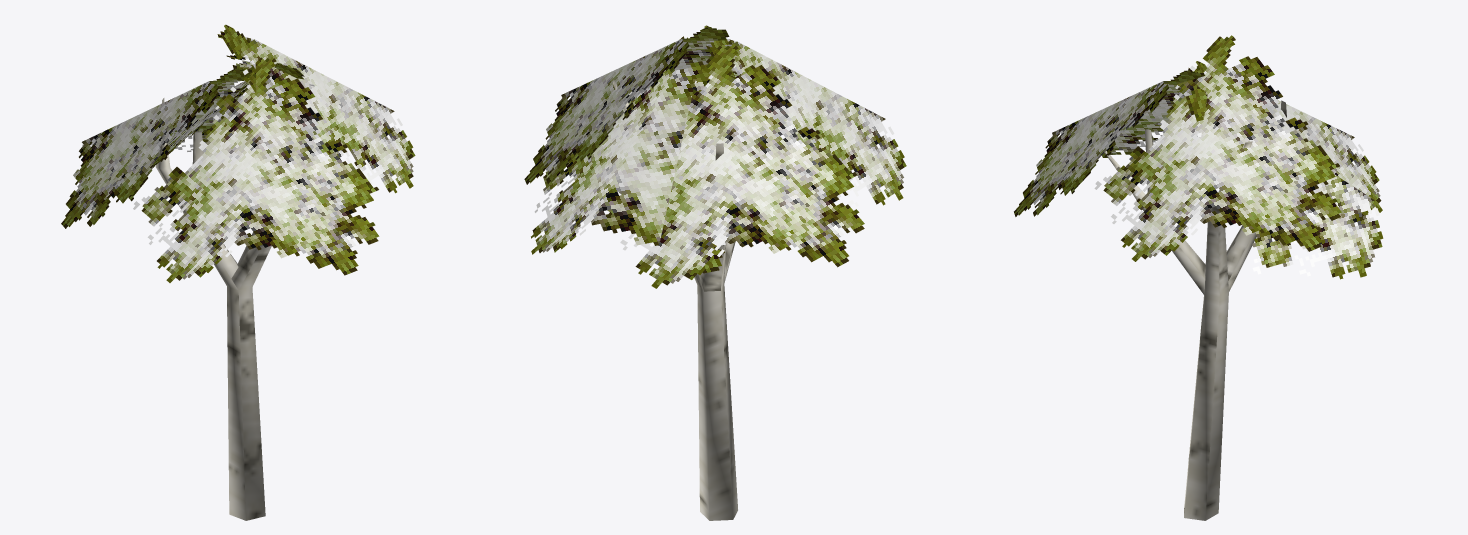
File: birchsno_1.dae
3 renders of one model, left to right at view 1: azimuth 30°, elevation 25°; view 2: azimuth 150°, elevation 25°; view 3: azimuth 270°, elevation 25°, orthographic. The views are drawn at different scales.
Visible parts, largest first — view 1: birchsno_1; view 2: birchsno_1; view 3: birchsno_1.
Boxes of the visible parts, left/top/right/bottom form: birchsno_1: left=61, top=24, right=415, bottom=520; birchsno_1: left=524, top=25, right=906, bottom=520; birchsno_1: left=1014, top=35, right=1383, bottom=520.
Bounding box in the file's own units: 3.72 × 3.83 × 4.48.
2 materials, 2 textured.
